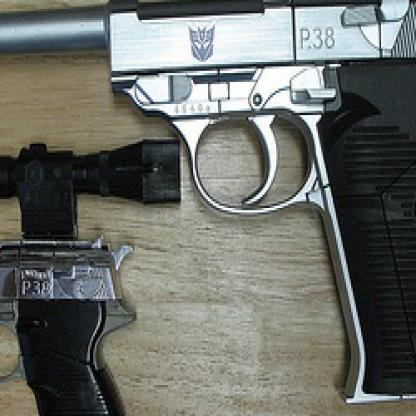gun: (0, 0, 415, 410), (0, 232, 145, 414)
